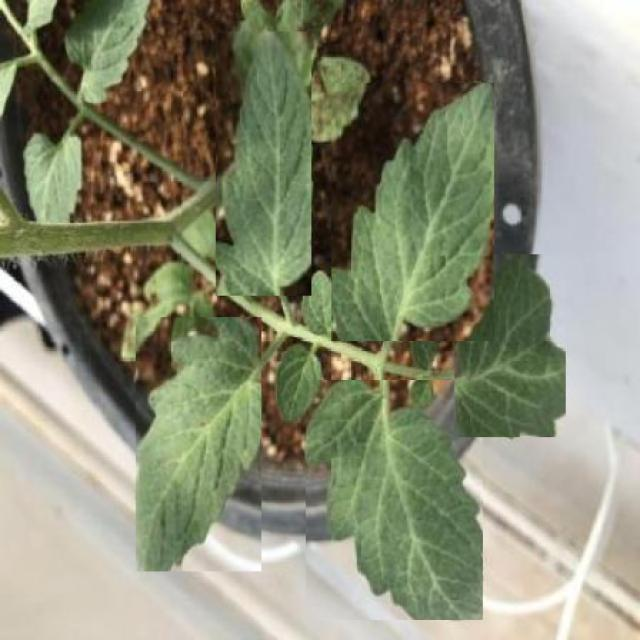Healthy: (306, 380, 484, 620), (332, 82, 494, 340), (137, 318, 262, 571), (216, 31, 311, 296), (455, 255, 566, 438)
